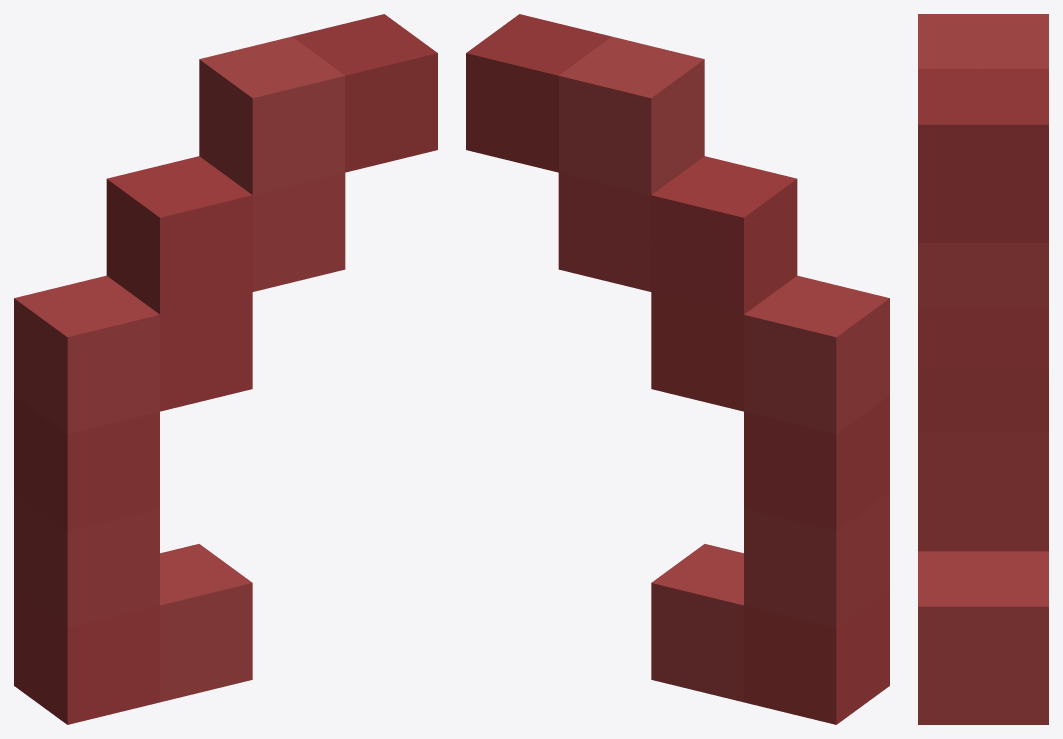
The model's file is Altar_BloodMeter_4.fbx.
3 views of the same model, side by side, from view 1: azimuth 30°, elevation 25°; view 2: azimuth 150°, elevation 25°; view 3: azimuth 270°, elevation 25° (orthographic). The views are drawn at different scales.
Parts seen in each view (by area): view 1: Altar_BloodMeter_4; view 2: Altar_BloodMeter_4; view 3: Altar_BloodMeter_4.
Boxes of the visible parts, x1,y1,x2,y2 form: Altar_BloodMeter_4: (14, 14, 437, 724); Altar_BloodMeter_4: (466, 14, 889, 724); Altar_BloodMeter_4: (918, 14, 1048, 724).
Size of the model in its own units: 4 by 6 by 1.
1 material, 1 textured.
